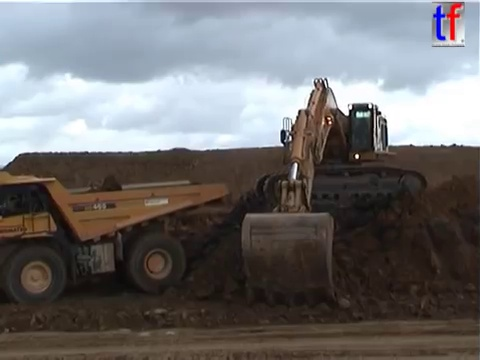excavator: (236, 74, 430, 308)
truck: (1, 168, 232, 308)
